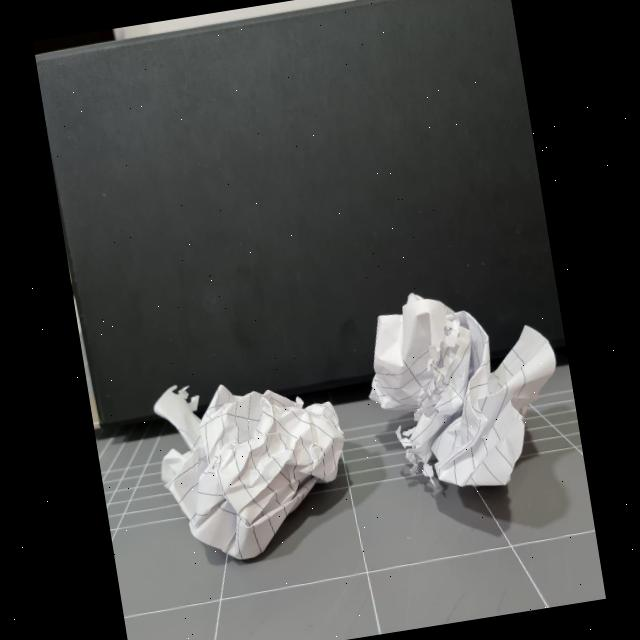trash: (142, 349, 362, 572), (362, 278, 572, 504)
